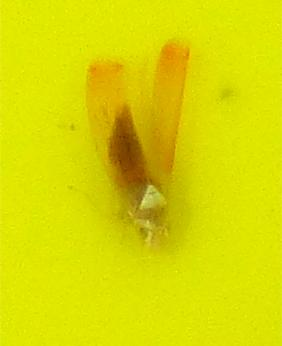Hemiptera: (100, 100, 182, 246)
